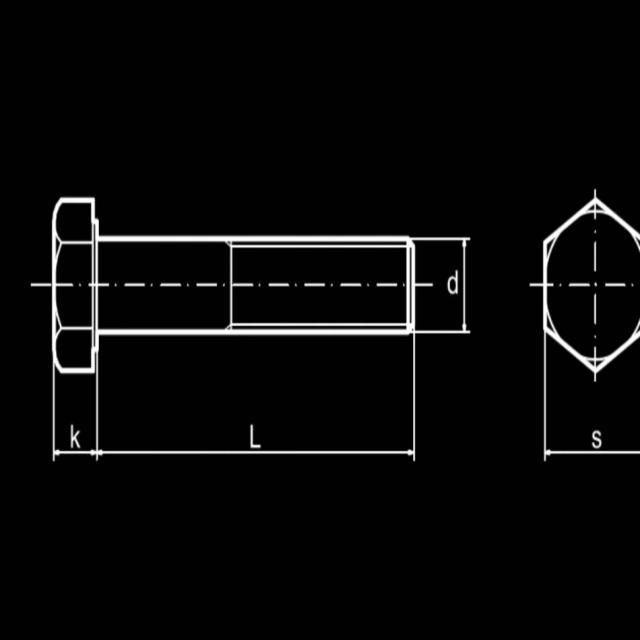marking_line: (97, 446, 413, 466), (459, 240, 473, 331), (546, 448, 640, 461), (52, 448, 97, 464)
